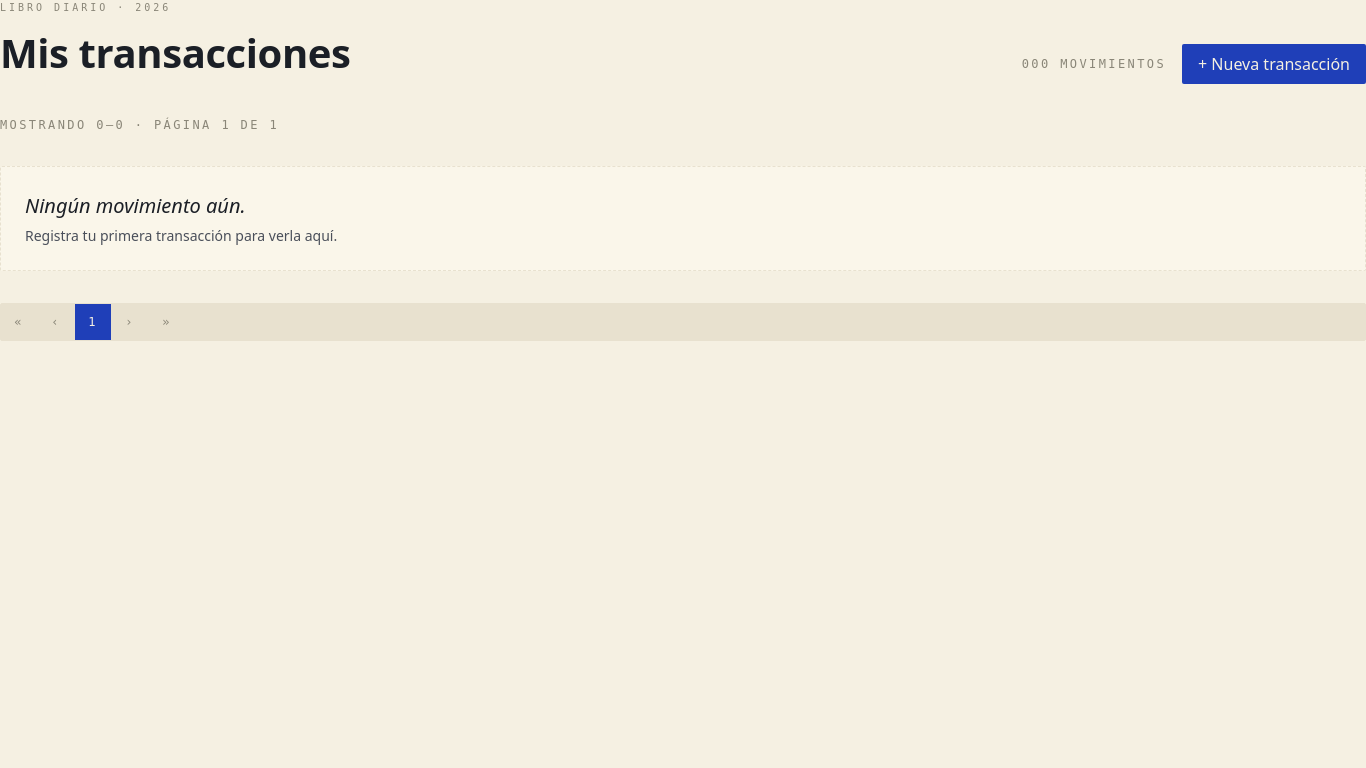
Test: TransactionsPage — modal create flow › clicking the button opens a modal with the TransactionForm inside
Step 1. Click the button "+ Nueva transacción" → (1274, 64), box x1=1182 y1=44 x2=1365 y2=84
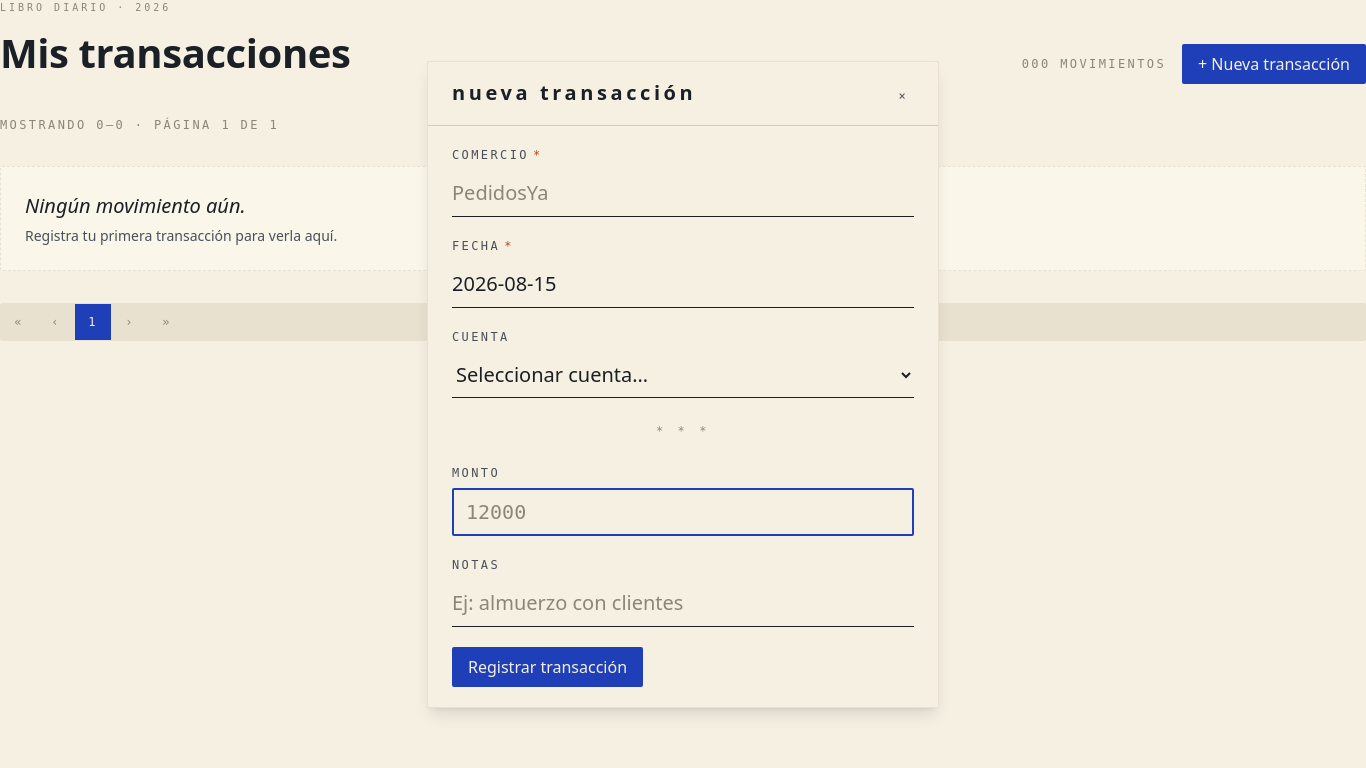
Now the dialog is shown, box x1=427 y1=60 x2=939 y2=708
Now the field labelled "Comercio*" is shown, box x1=452 y1=170 x2=914 y2=216
